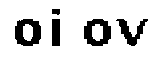i: (47, 5, 65, 51)
o: (78, 19, 112, 50), (12, 16, 42, 49)
v: (115, 16, 148, 50)
